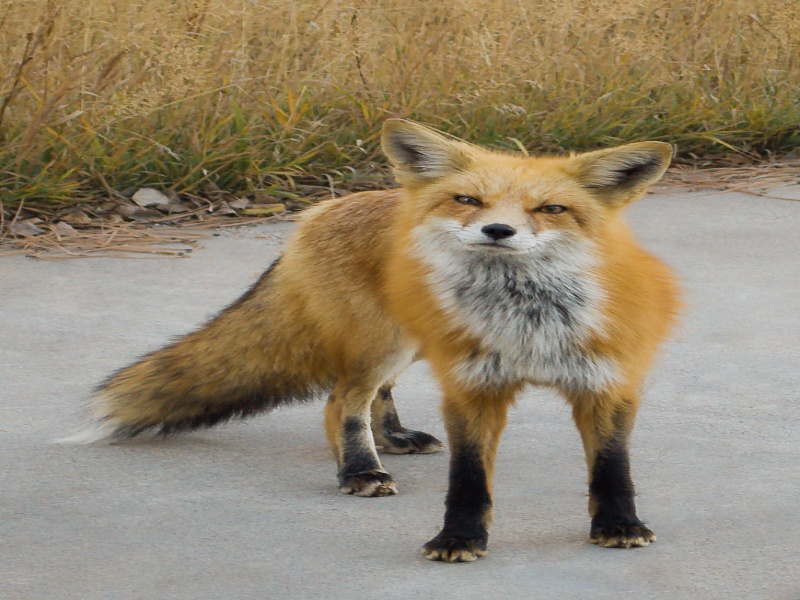fox: (73, 108, 692, 570)
